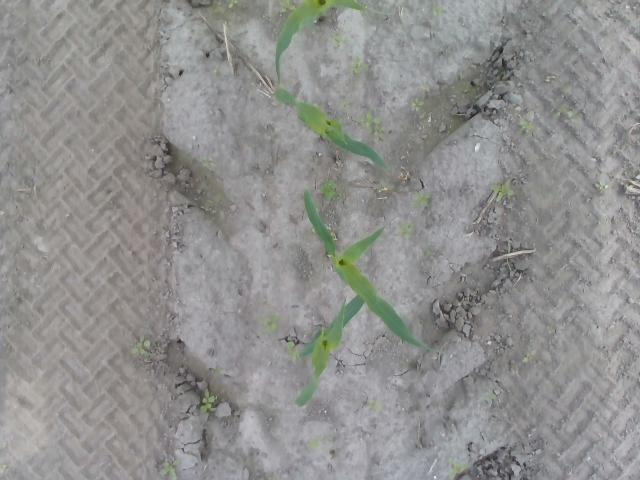Maize: (300, 188, 440, 354), (275, 86, 392, 173), (293, 292, 366, 408), (274, 0, 368, 80)
Weeds: (360, 110, 384, 138), (490, 180, 512, 202), (318, 180, 338, 202), (446, 458, 472, 474), (200, 390, 216, 414), (130, 337, 150, 355), (159, 461, 177, 480), (330, 32, 350, 48), (352, 55, 368, 75), (414, 191, 432, 208), (286, 340, 300, 360), (279, 0, 295, 14), (262, 318, 277, 332), (401, 222, 413, 239), (410, 98, 424, 112), (592, 179, 608, 190), (479, 390, 496, 400), (368, 400, 382, 412), (522, 350, 534, 363), (339, 100, 352, 111), (306, 438, 320, 448), (433, 4, 445, 15), (213, 1, 223, 13), (419, 82, 431, 91), (519, 119, 529, 129), (546, 326, 556, 336), (424, 247, 434, 256), (228, 0, 238, 9), (0, 465, 9, 475), (377, 184, 388, 192), (462, 88, 469, 100)
